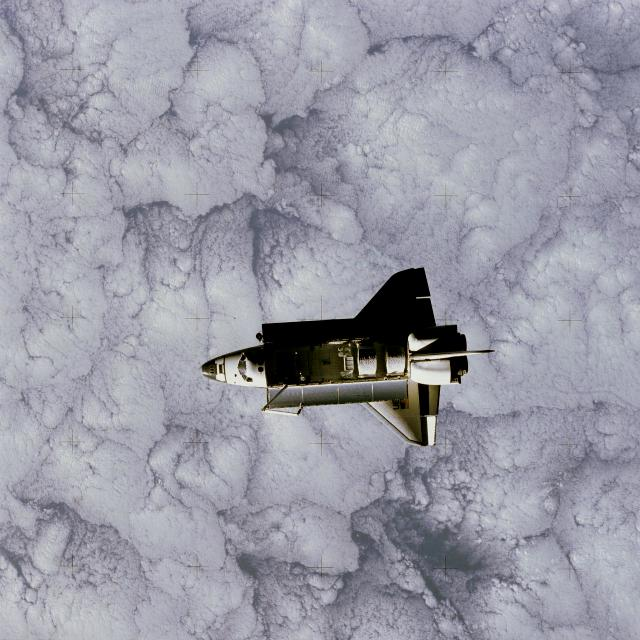satellite: (201, 268, 491, 446)
